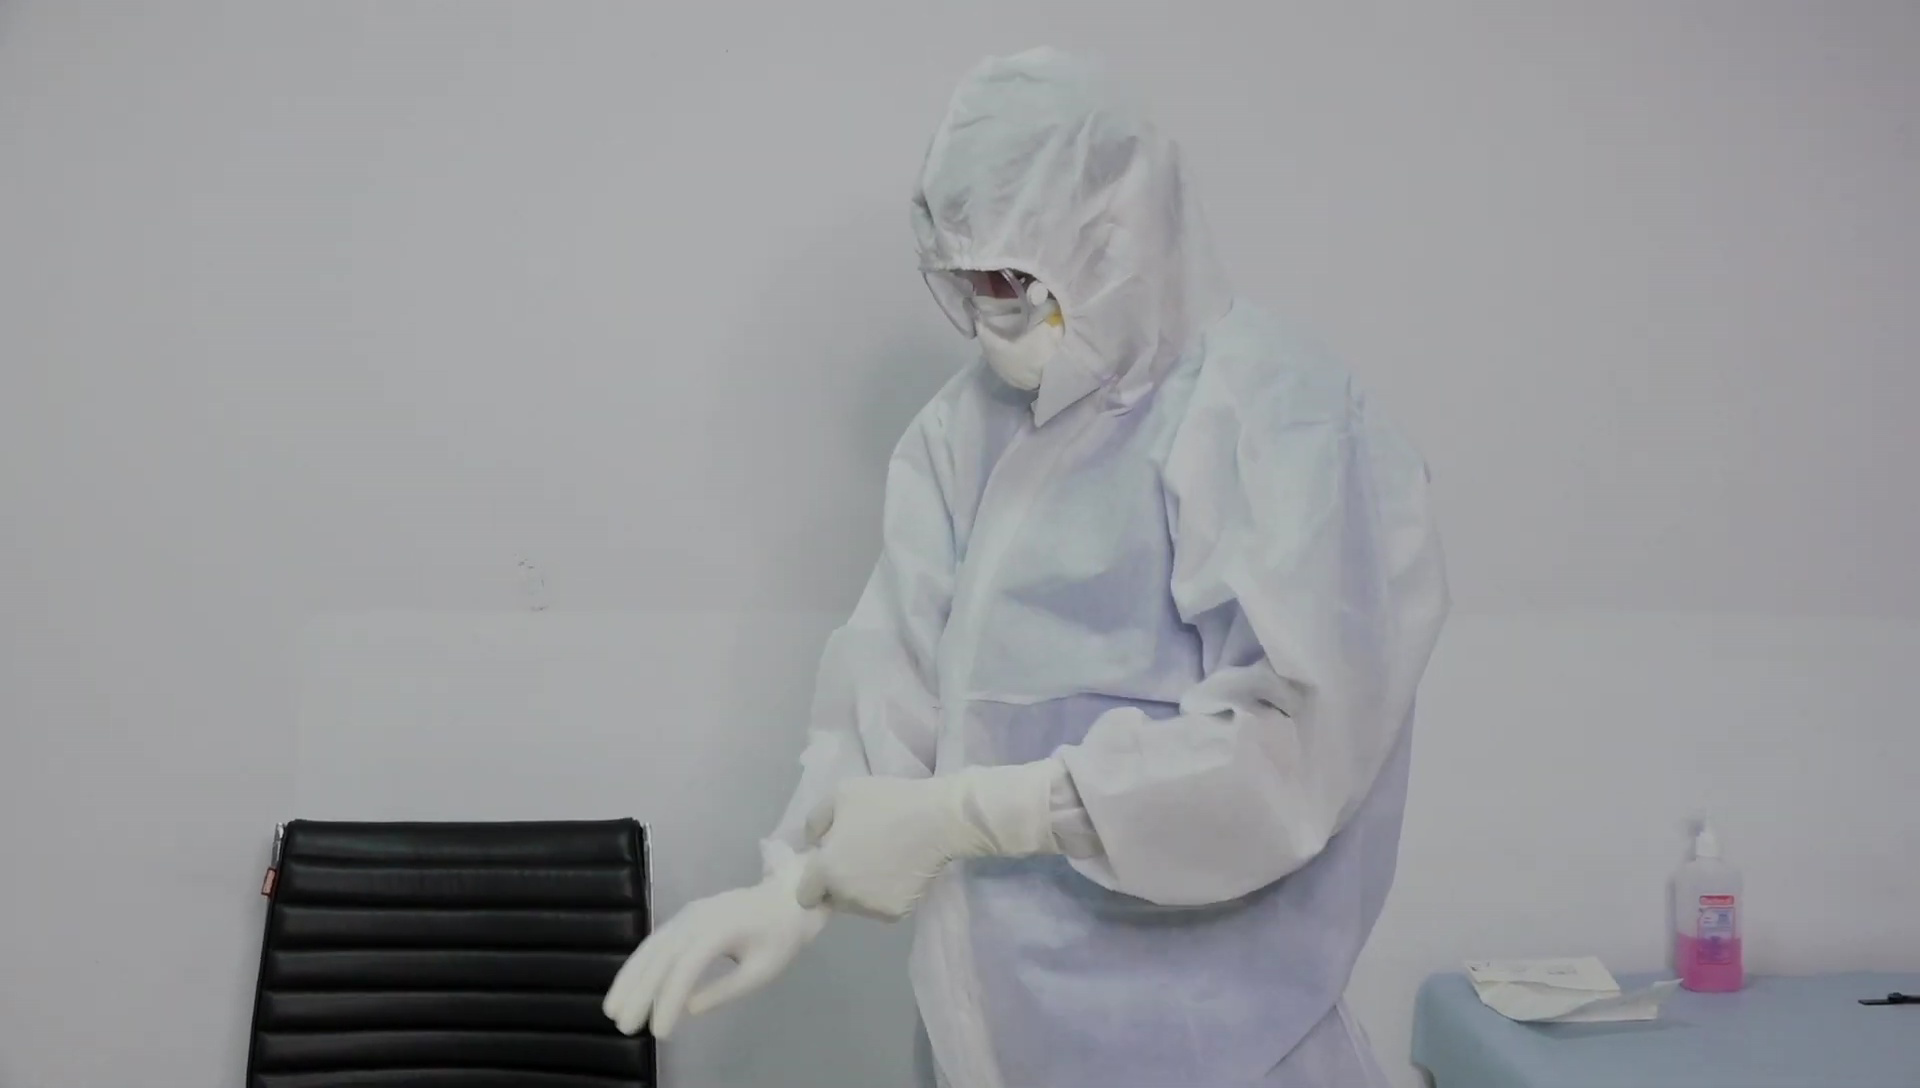Coverall: (812, 49, 1450, 1085)
Gloves: (603, 863, 832, 1041), (797, 776, 1029, 923)
Goggles: (917, 269, 1043, 342)
with_mask: (975, 313, 1065, 395)
